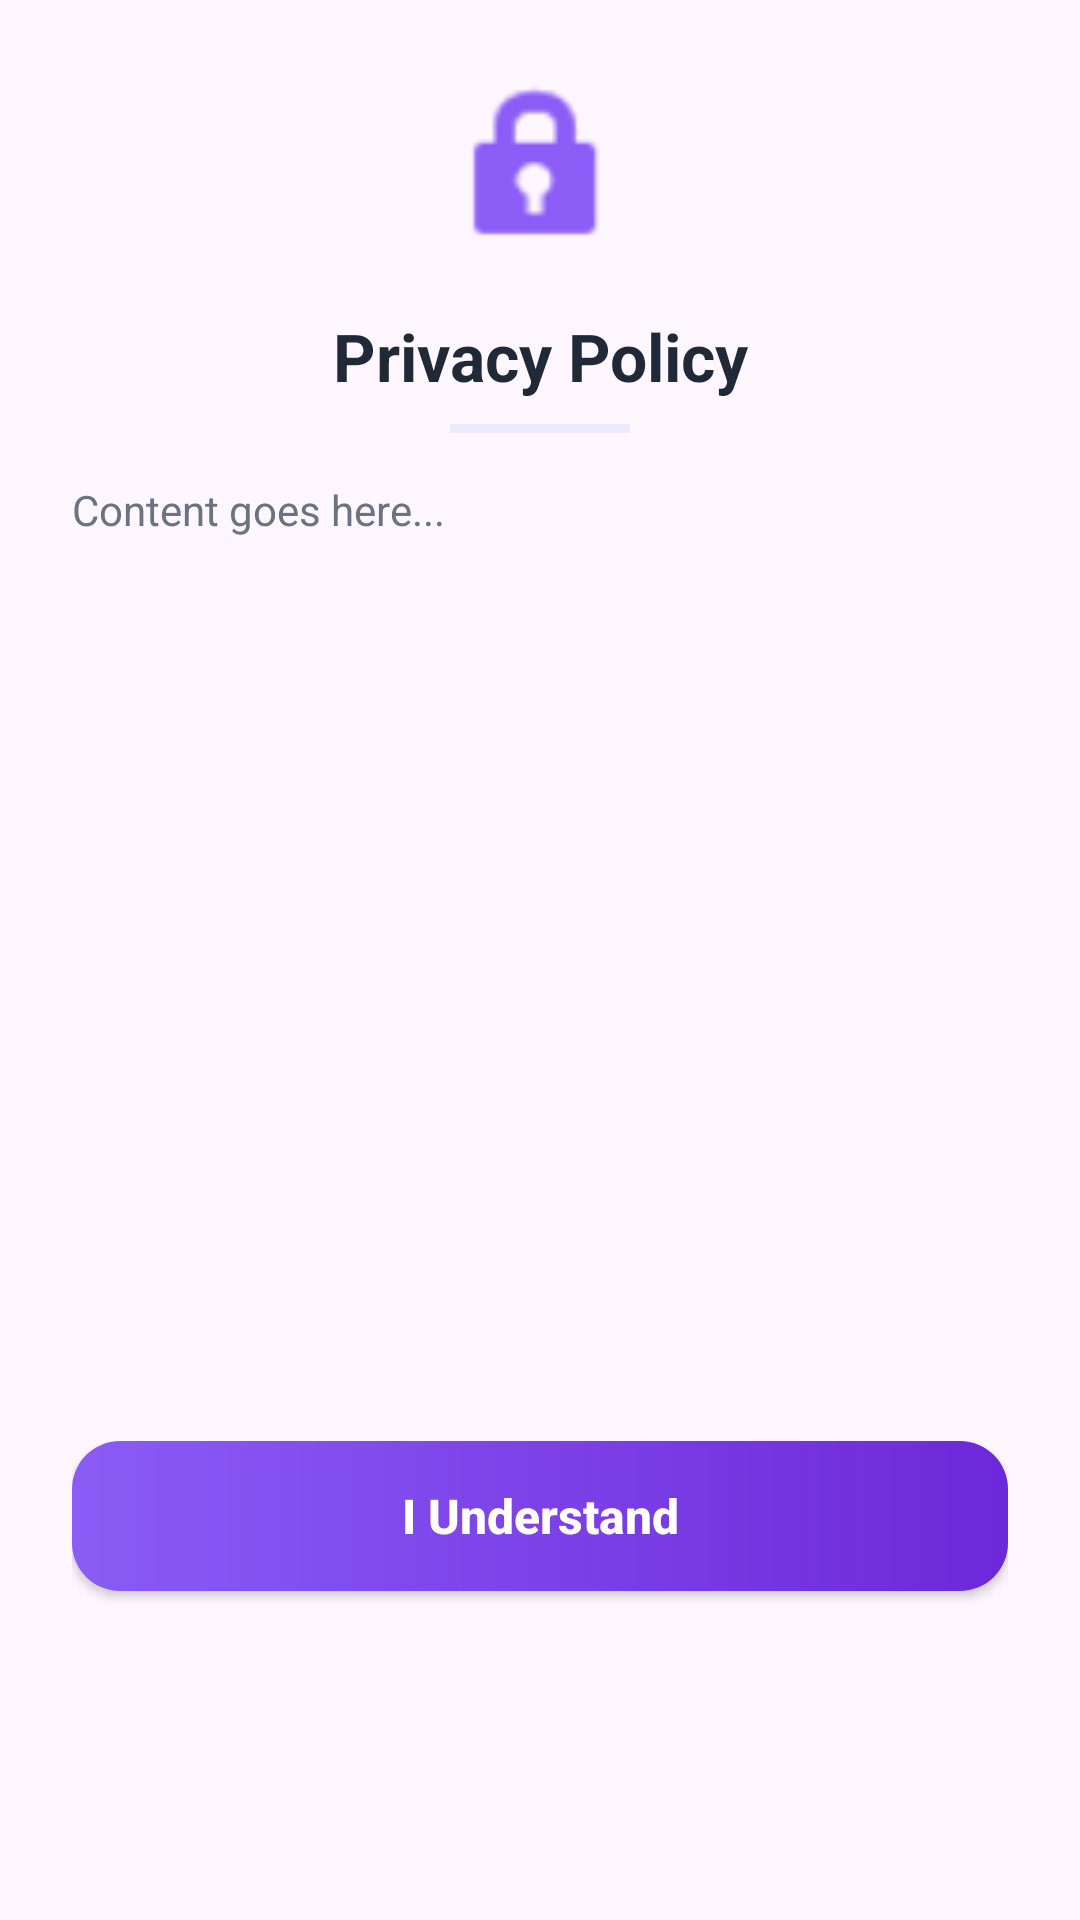

Icons on this 1080x1920 Android screen, each with its box as (x1, y1, x2, y2):
lock idle: (473, 89, 598, 235)
